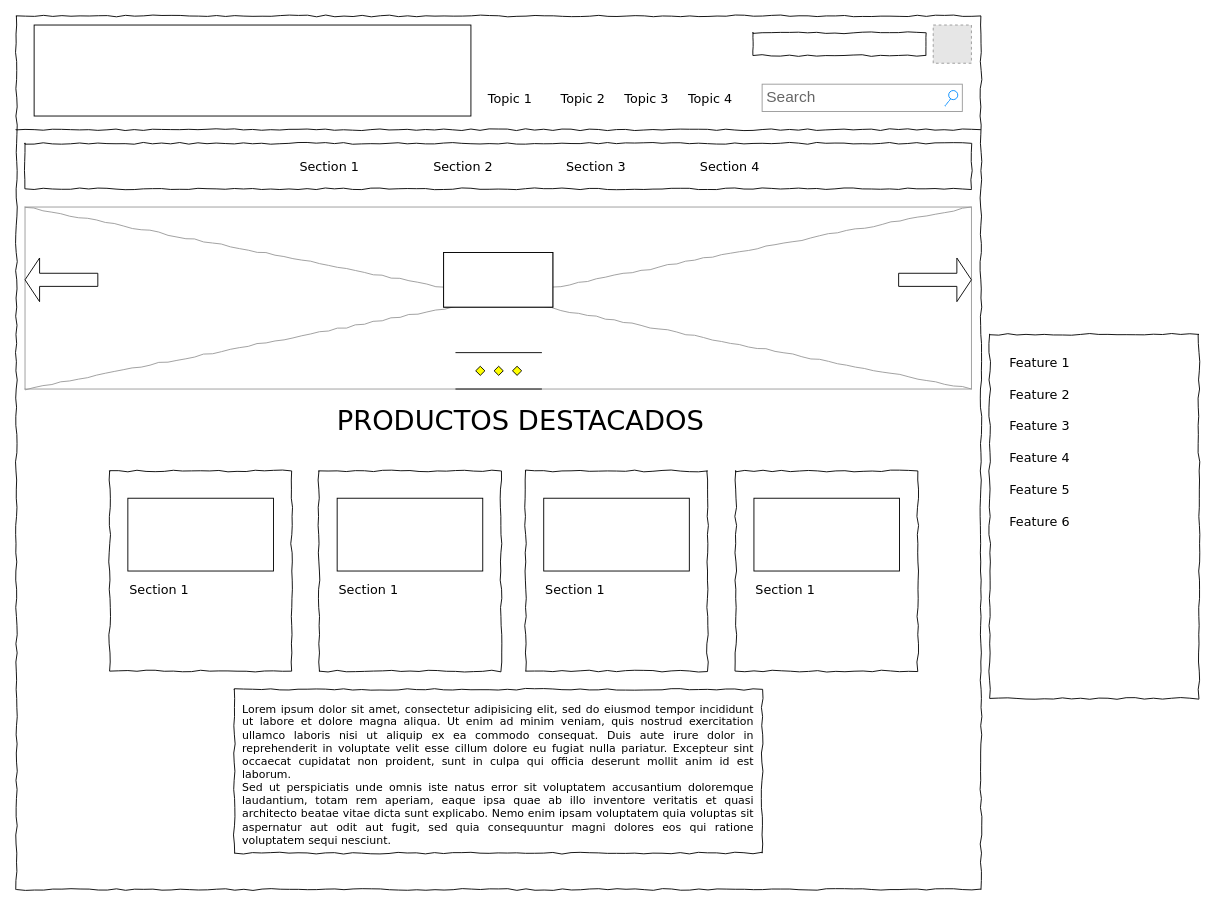
The diagram is 1215 pixels wide and 905 high, and some of its shapes have lost their labels. Grey dashed boxes stand in for pictures. The box of each missing label's shape, as (x1, y1, x2, y2) in pixels:
Login: (752, 32, 926, 56)
LOGO: (33, 24, 471, 116)
